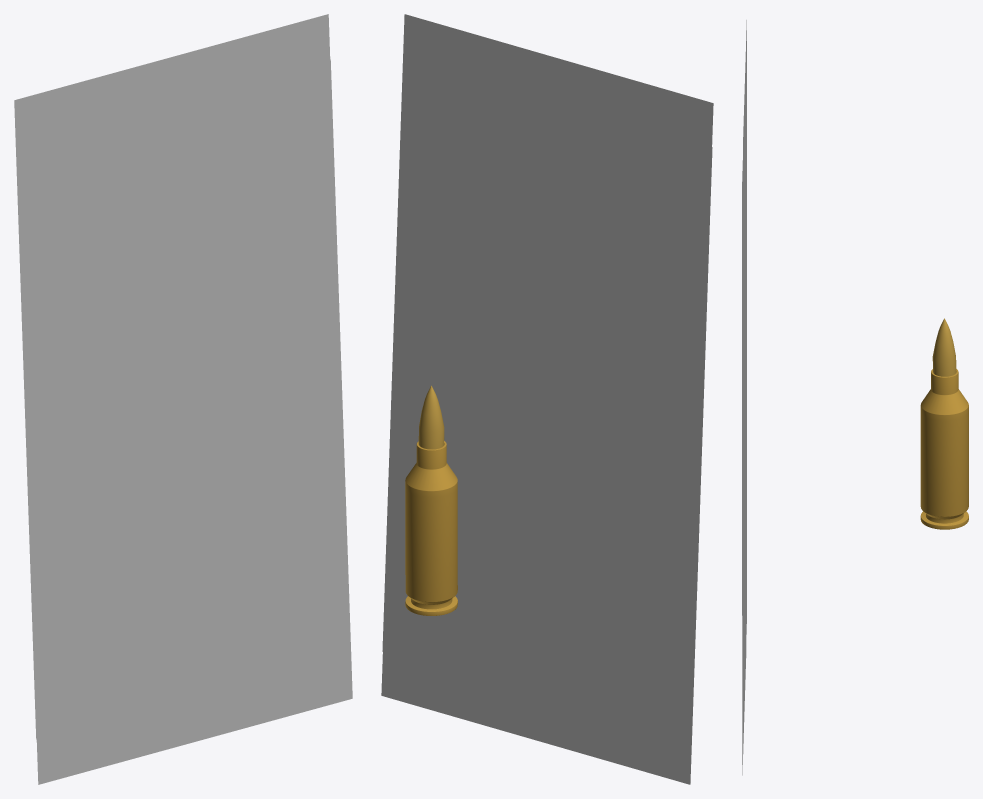
Rendered from bullet.obj.
The picture shows the model from 3 angles, left to right: view 1: azimuth 30°, elevation 25°; view 2: azimuth 150°, elevation 25°; view 3: azimuth 270°, elevation 25°; orthographic projection. The views are drawn at different scales.
Visible parts, largest first — view 1: Plane.001, Plane; view 2: Plane, Plane.001, base, Tip; view 3: base, Plane, Tip, Plane.001.
Boxes of the visible parts, bbox=[...] form: Plane.001: bbox=[16, 59, 352, 784]; Plane: bbox=[14, 14, 330, 739]; Plane: bbox=[382, 14, 713, 740]; Plane.001: bbox=[381, 147, 712, 784]; base: bbox=[405, 441, 457, 615]; Tip: bbox=[418, 385, 444, 449]; base: bbox=[920, 369, 968, 529]; Plane: bbox=[743, 20, 746, 740]; Tip: bbox=[932, 318, 956, 376]; Plane.001: bbox=[742, 160, 746, 775].
Bounding box in the file's own units: 21.92 × 43.76 × 14.
3 materials, 2 textured.
